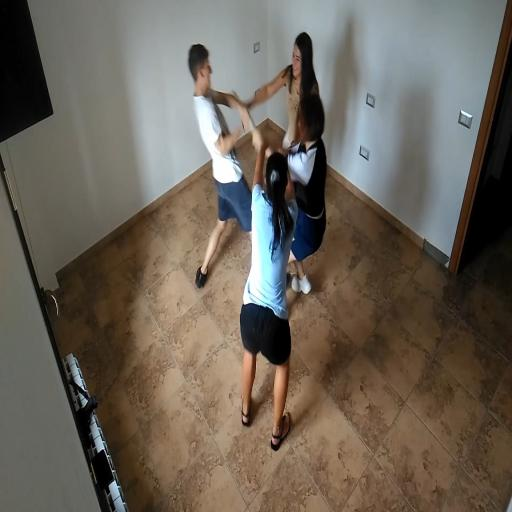violencia: (170, 23, 356, 458)
